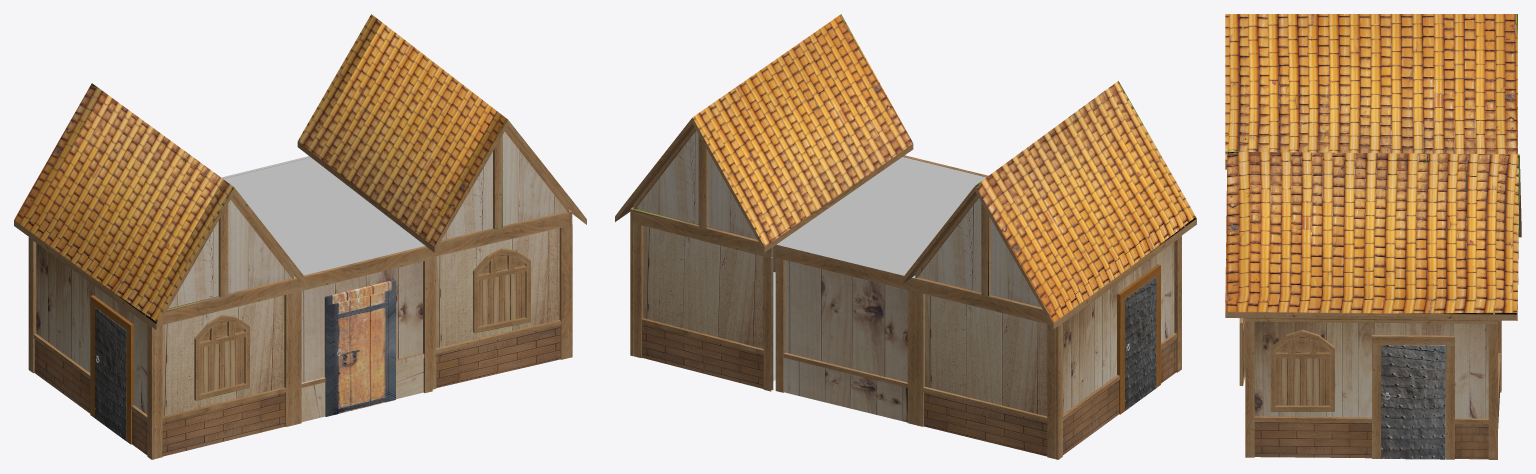
File: casa4.obj
3 views of the same model, side by side, from view 1: azimuth 30°, elevation 25°; view 2: azimuth 150°, elevation 25°; view 3: azimuth 270°, elevation 25° (orthographic). The views are drawn at different scales.
Visible parts, largest first — view 1: casa2_casa1_telhado, casa2_casa2_telhado, casa2_casa1_paredes, casa2_casa2_paredes, casa2_meio, casa2_meio_parede, casa2_casa1_parede_lado, casa2_meio_porta, casa2_casa1_porta, casa2_casa2_janela, casa2_casa1_janela; view 2: casa2_casa1_telhado, casa2_casa2_telhado, casa2_casa2_paredes, casa2_casa1_paredes, casa2_meio_parede, casa2_meio, casa2_casa1_parede_lado, casa2_casa1_porta; view 3: casa2_casa2_telhado, casa2_casa1_telhado, casa2_casa2_parede_lado, casa2_casa2_porta, casa2_casa2_janela2, casa2_casa2_janela, casa2_casa2_paredes.
Part boxes in pixels (x1,y1,x2,y2): casa2_casa1_telhado: (14,83,306,329); casa2_casa2_telhado: (297,14,586,252); casa2_casa1_paredes: (152,196,293,459); casa2_casa2_paredes: (432,128,572,389); casa2_meio: (221,156,425,356); casa2_meio_parede: (223,157,432,424); casa2_casa1_parede_lado: (28,237,151,459); casa2_meio_porta: (324,280,395,416); casa2_casa1_porta: (90,295,133,444); casa2_casa2_janela: (473,248,530,333); casa2_casa1_janela: (194,315,249,400); casa2_casa1_telhado: (902,81,1196,328); casa2_casa2_telhado: (615,14,913,252); casa2_casa2_paredes: (630,127,775,391); casa2_casa1_paredes: (915,195,1058,459); casa2_meio_parede: (775,155,988,424); casa2_meio: (777,157,985,278); casa2_casa1_parede_lado: (1058,236,1181,459); casa2_casa1_porta: (1117,264,1160,414); casa2_casa2_telhado: (1225,151,1521,320); casa2_casa1_telhado: (1225,14,1517,169); casa2_casa2_parede_lado: (1245,318,1497,459); casa2_casa2_porta: (1372,335,1454,459); casa2_casa2_janela2: (1270,330,1334,411); casa2_casa2_janela: (1239,318,1245,385); casa2_casa2_paredes: (1498,320,1501,428).
Bounding box in the file's own units: 62.78 × 36.05 × 35.98.
